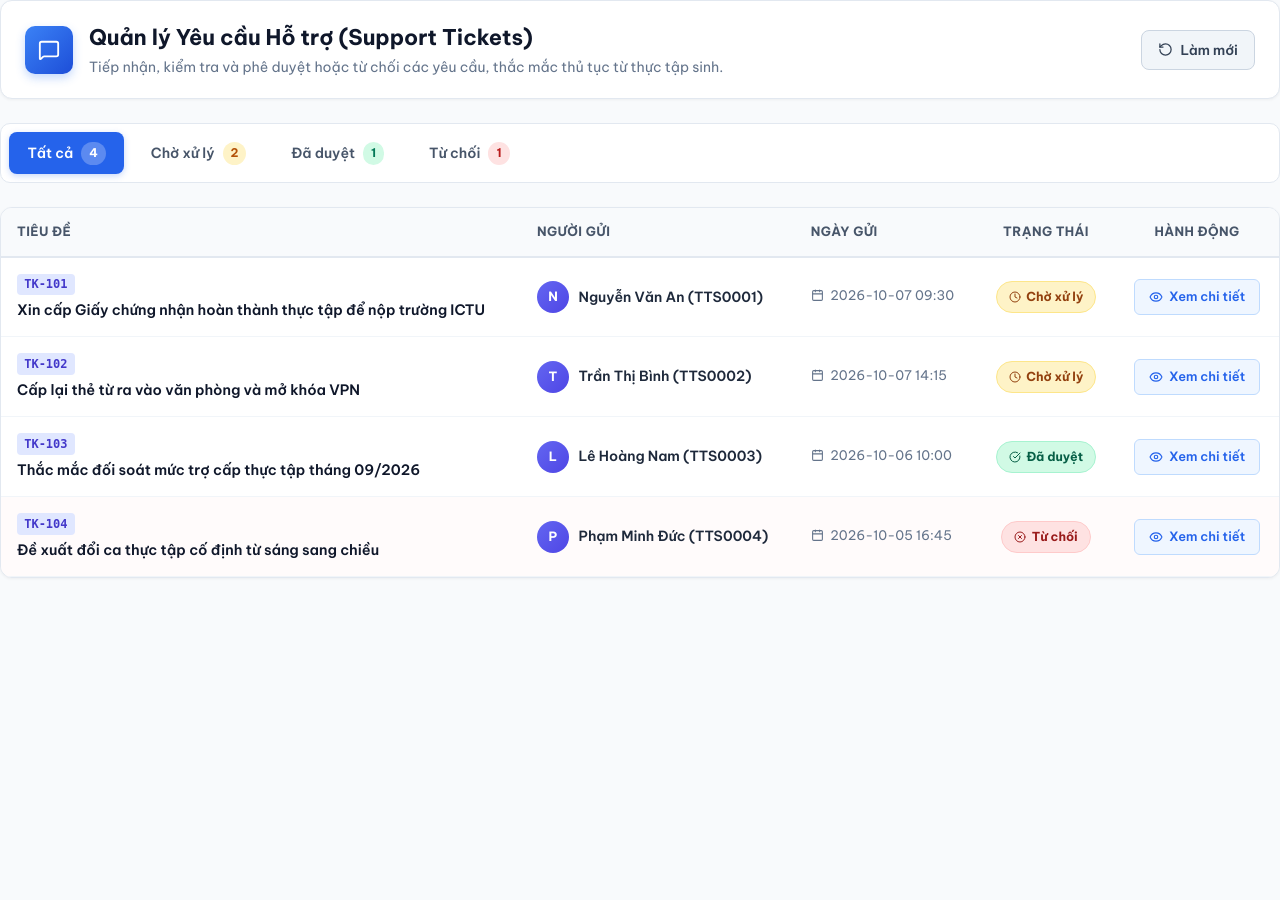
Test case: SupportTicketManager Test Suite › 2. Modal xử lý & Validation bắt buộc phản hồi khi Từ chối › bắt buộc nhập phản hồi vào textarea trước khi bấm "Từ chối" (Validation error)
Click the button "Xem chi tiết" in the row of "TK-101" at point(1197, 297), box x1=1134 y1=279 x2=1260 y2=315
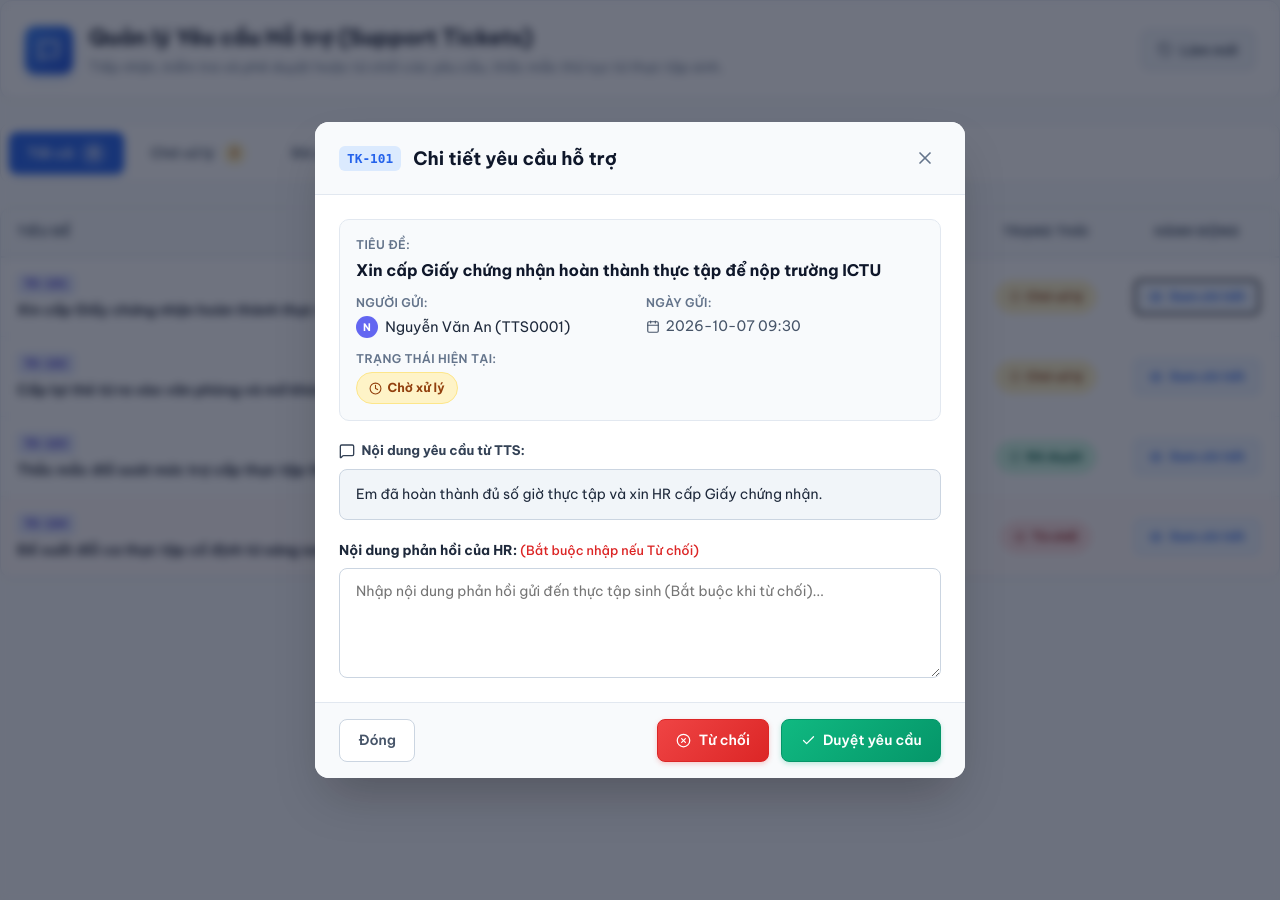
Click "Từ chối" khi textarea rỗng
Click the button "Từ chối" at point(713, 740), box x1=657 y1=719 x2=769 y2=762
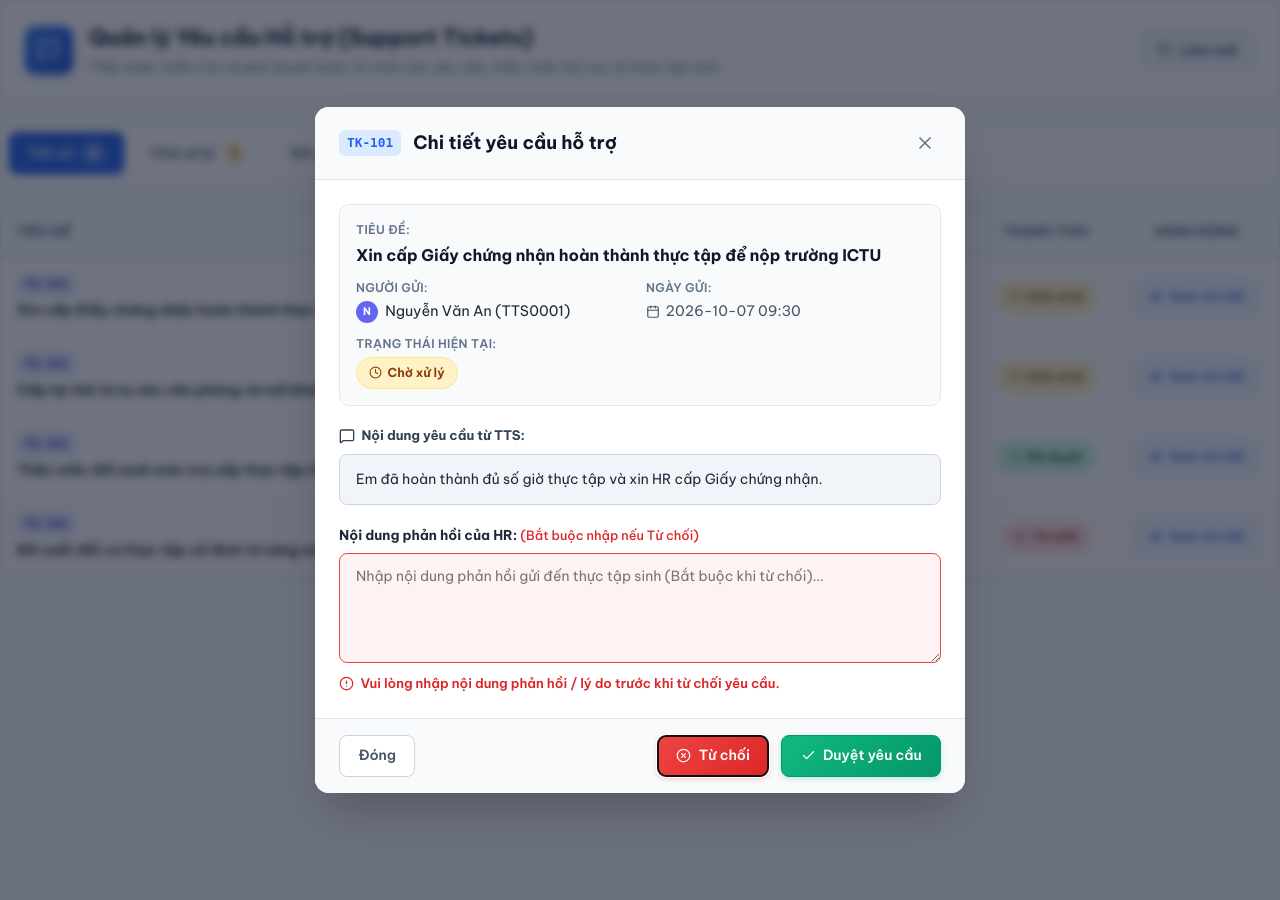
Expected: the message "Vui lòng nhập nội dung phản hồi / lý do trước khi từ chối yêu cầu." is shown, x1=339 y1=675 x2=780 y2=692
Expected: the message shows "Vui lòng nhập nội dung phản hồi / lý do trước khi từ chối yêu cầu", x1=360 y1=675 x2=780 y2=691
